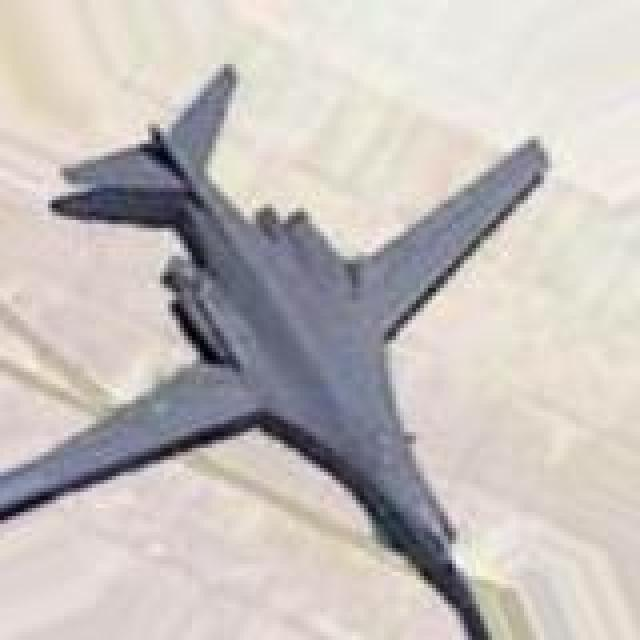B-1_TopDown: (0, 56, 552, 636)
